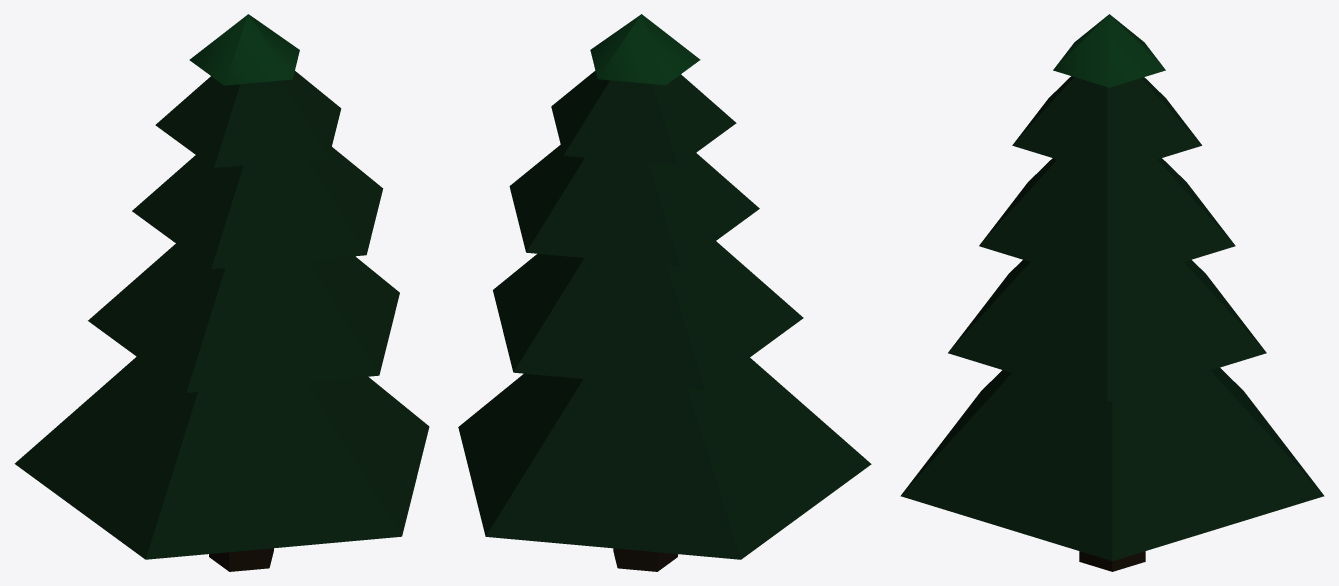
File: pinetree3.FBX
3 views of the same model, side by side, from view 1: azimuth 30°, elevation 25°; view 2: azimuth 150°, elevation 25°; view 3: azimuth 270°, elevation 25° (orthographic).
Visible parts, largest first — view 1: Cylinder002, Cone001, Cylinder001; view 2: Cylinder002, Cone001, Cylinder001; view 3: Cylinder002, Cone001, Cylinder001.
Boxes of the visible parts, x1=… form: Cylinder002: x1=14, y1=71, x2=429, y2=559; Cone001: x1=189, y1=14, x2=299, y2=85; Cylinder001: x1=209, y1=548, x2=273, y2=571; Cylinder002: x1=458, y1=71, x2=871, y2=559; Cone001: x1=590, y1=14, x2=700, y2=85; Cylinder001: x1=613, y1=548, x2=677, y2=571; Cylinder002: x1=900, y1=76, x2=1324, y2=561; Cone001: x1=1053, y1=14, x2=1165, y2=87; Cylinder001: x1=1079, y1=551, x2=1145, y2=571.
Size of the model in its own units: 73.97 by 110 by 77.78.
